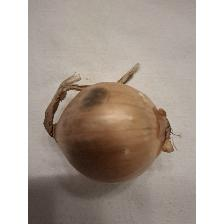Zwiebel: (41, 62, 186, 186)
